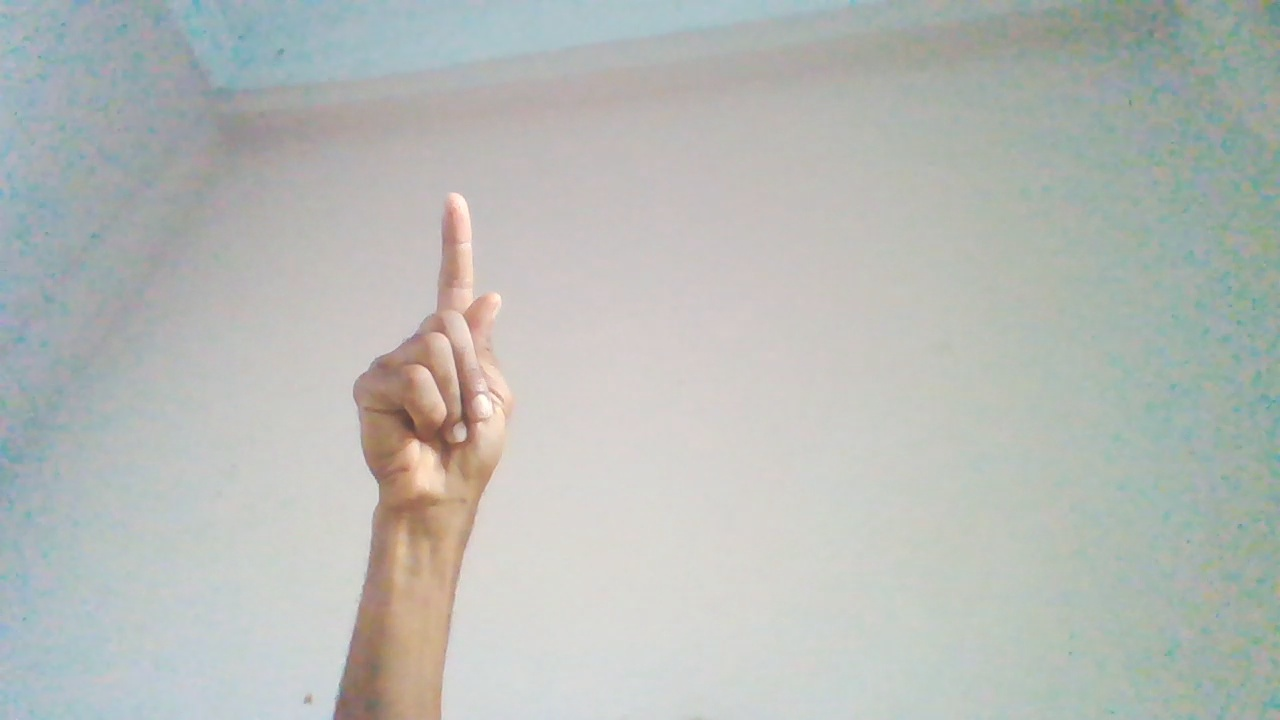ne: (349, 194, 516, 581)
